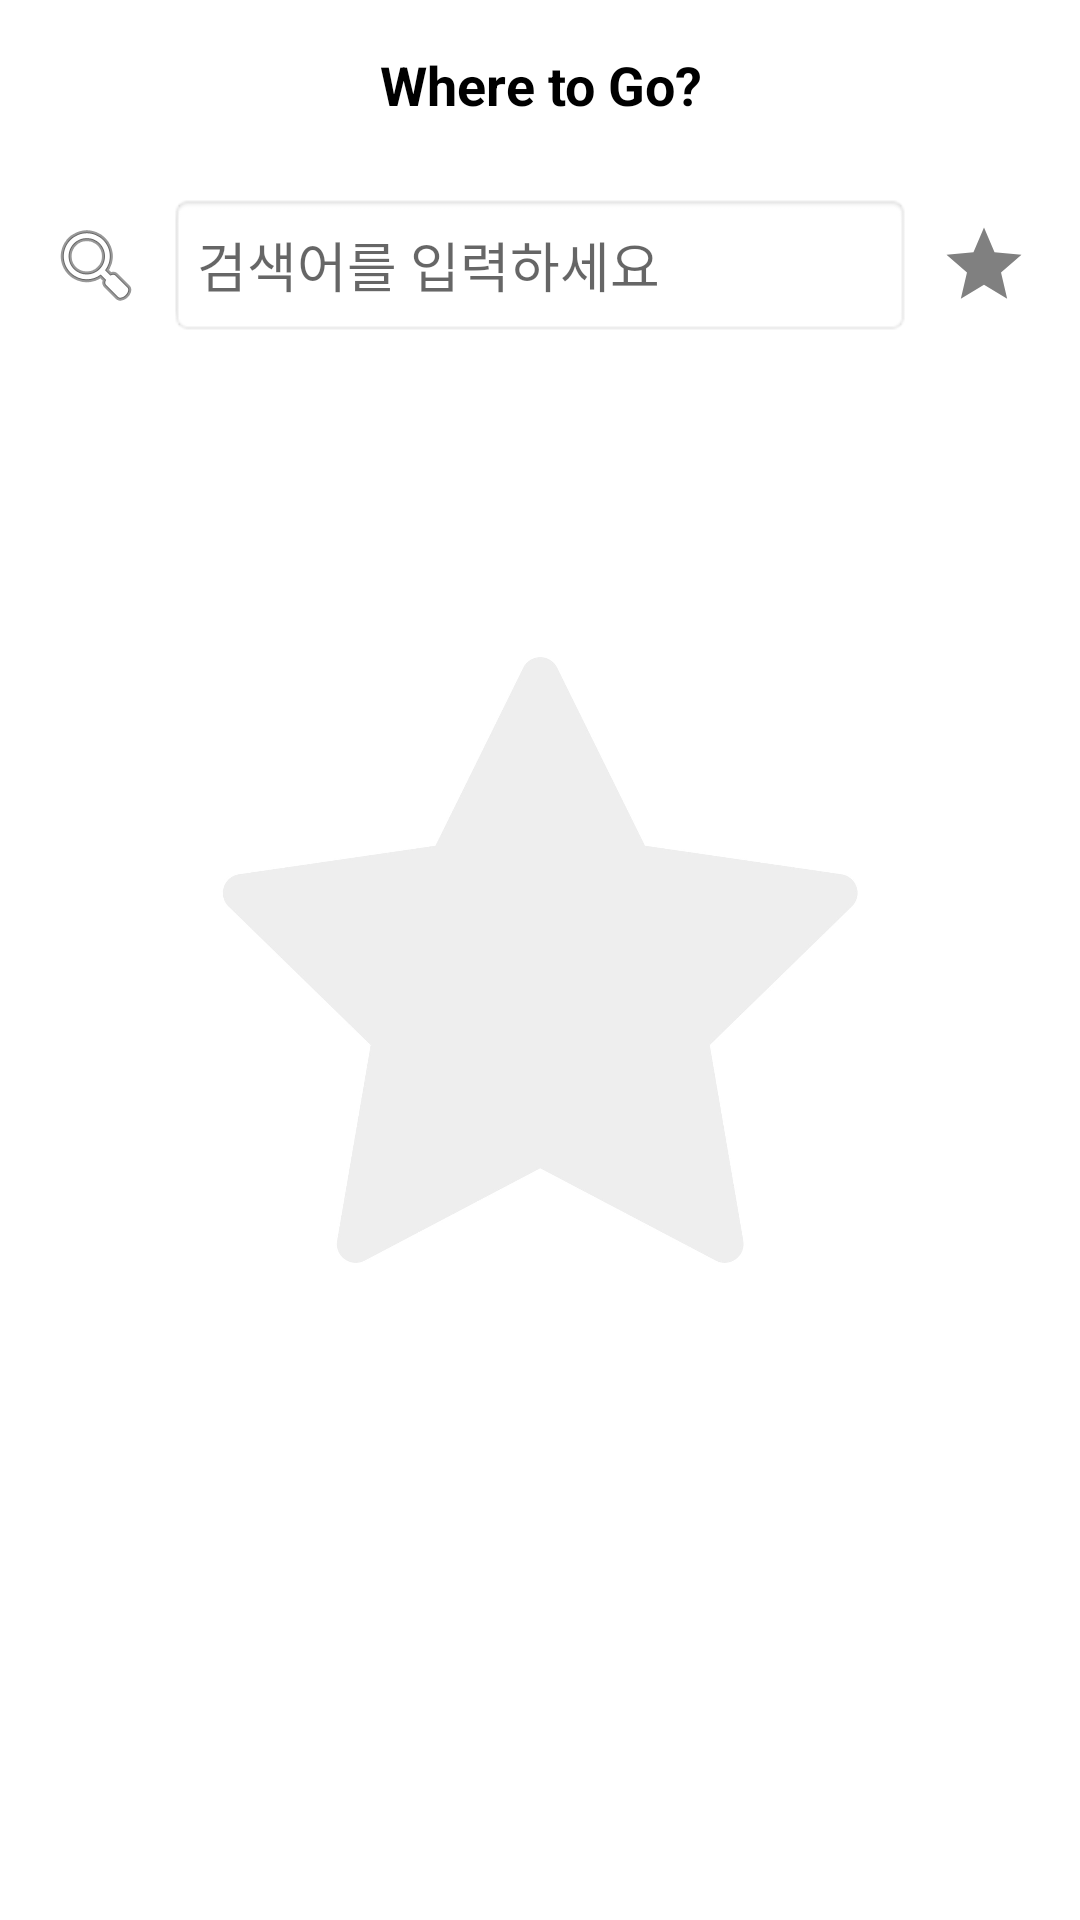

Point at icon controls on the screen. Image size 1080×1920, points as [x,y].
검색 버튼: [96,265]
즐겨찾기 보기: [984,263]
